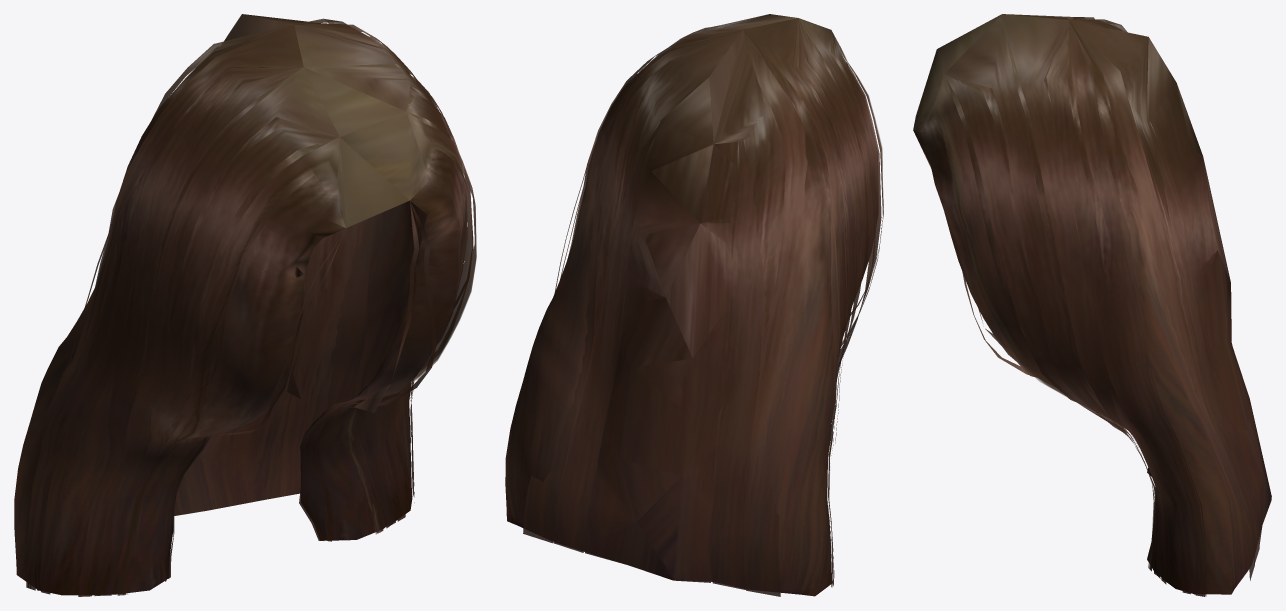
Rendered from medium-asian.glb.
3 renders of one model, left to right at view 1: azimuth 30°, elevation 25°; view 2: azimuth 150°, elevation 25°; view 3: azimuth 270°, elevation 25°, orthographic. The views are drawn at different scales.
Visible parts, largest first — view 1: hair_medium; view 2: hair_medium; view 3: hair_medium.
Boxes of the visible parts, x1,y1,x2,y2 form: hair_medium: [14, 14, 476, 596]; hair_medium: [505, 14, 883, 596]; hair_medium: [913, 14, 1271, 596].
Size of the model in its own units: 0.3002 by 0.4271 by 0.2811.
1 material, 1 textured.
